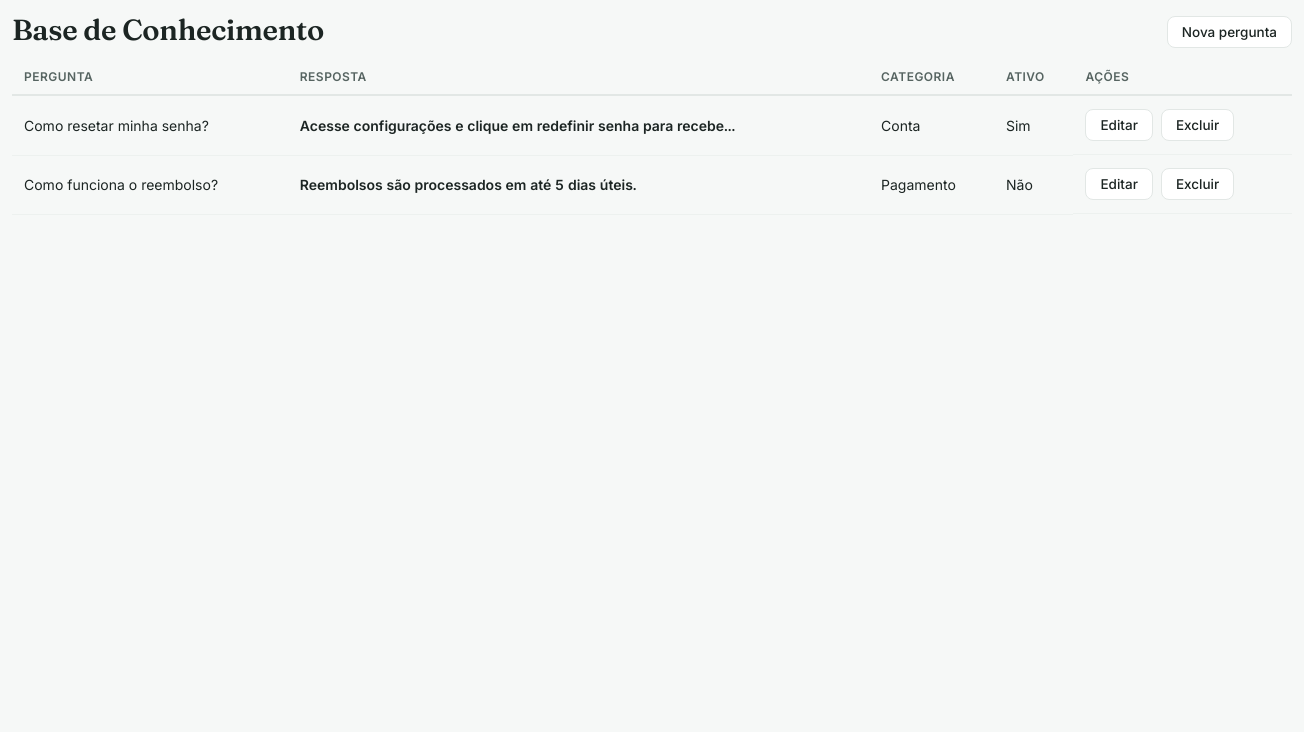
Test case: FaqAdminPage › sucesso ao salvar dispara invalidateQueries (refetch da lista), mostra toast de sucesso e fecha o form
Check: the text "Como resetar minha senha?" is shown, box [12,95,288,155]
Click the button "Nova pergunta". click: (1229, 32)
box: [1167,16,1292,48]
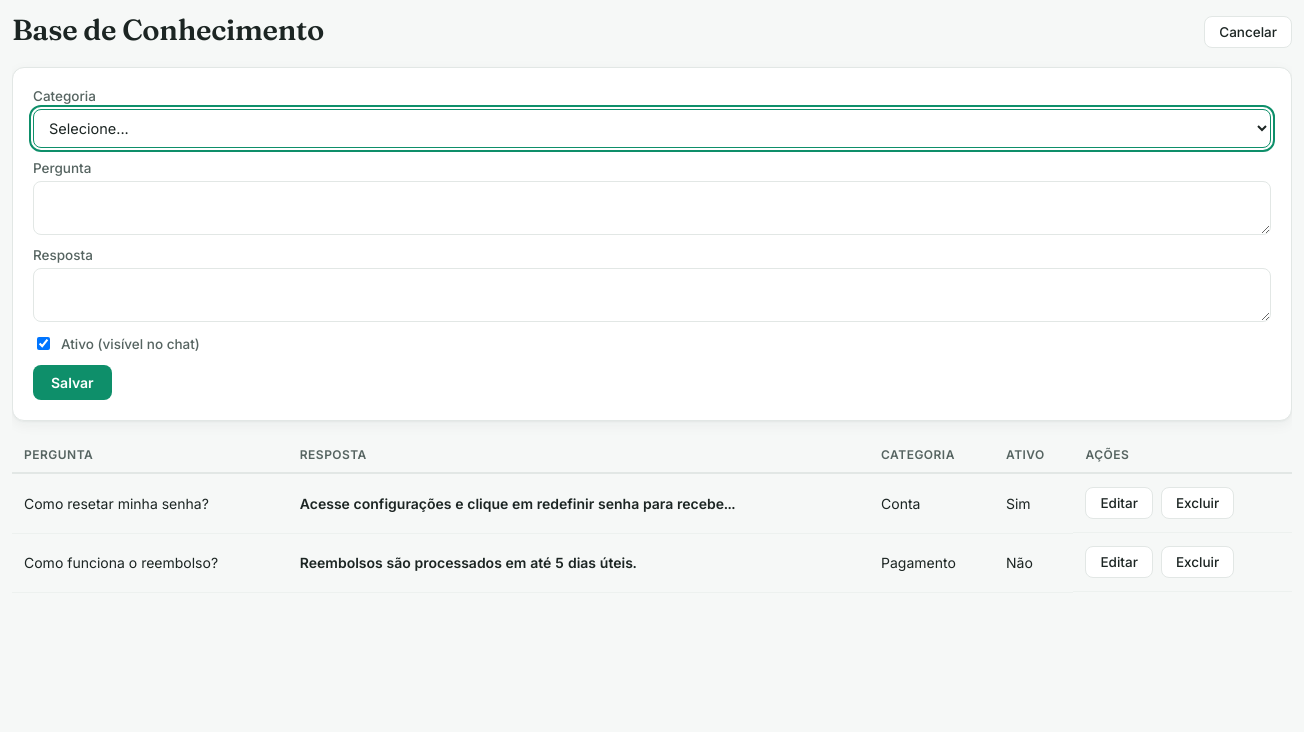
Select "Conta" in the dropdown labelled "Categoria". click: (652, 128)
box: [33,109,1271,148]
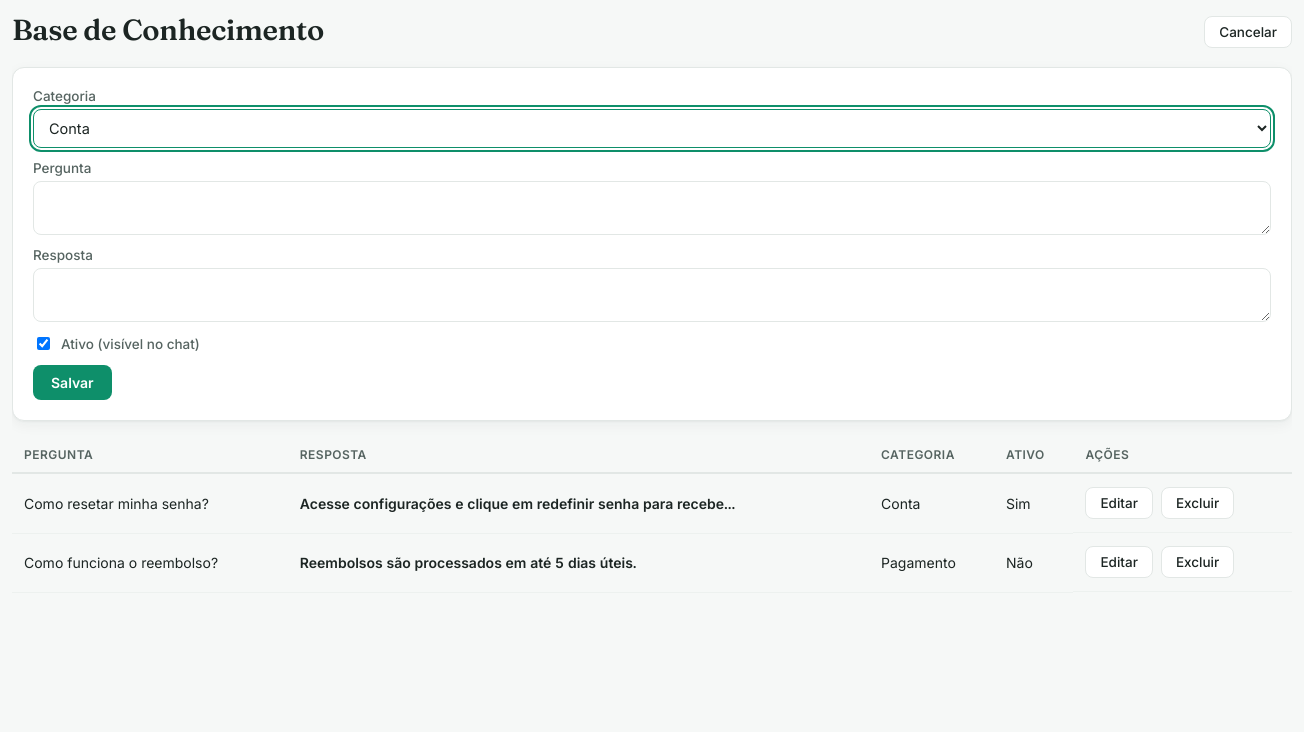
Type "Nova pergunta de teste?" into the text box labelled "Pergunta". click: (652, 208)
box: [33,181,1271,235]
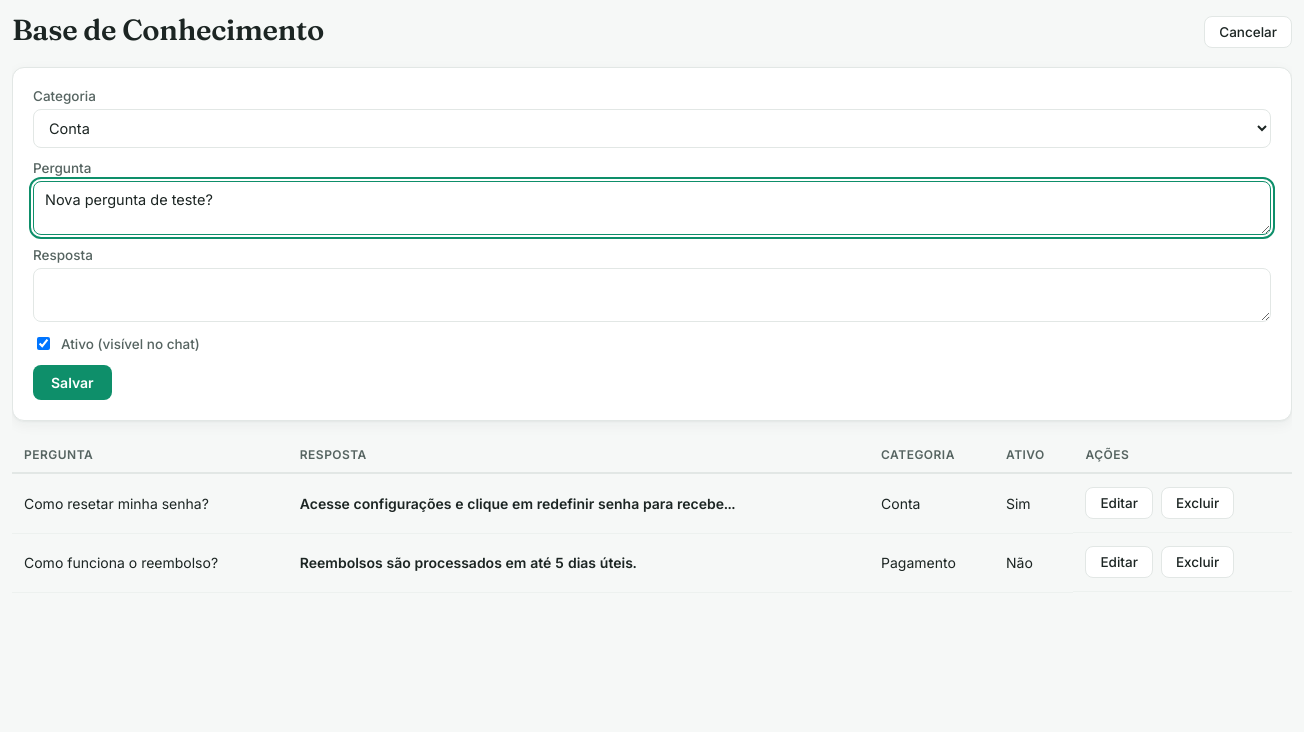
Type "Resposta de teste." into the text box labelled "Resposta". click: (652, 295)
box: [33,268,1271,322]
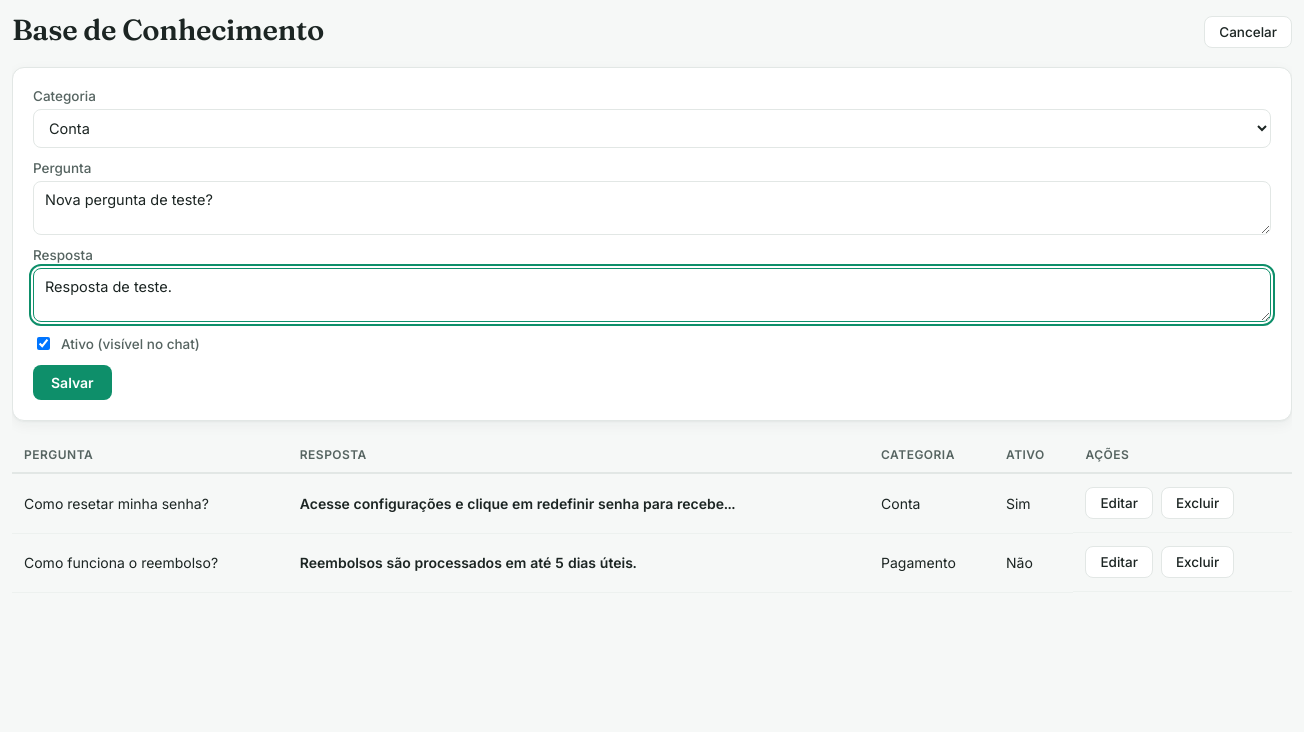
Click the button "Salvar". click: (72, 382)
box: [33,365,112,400]
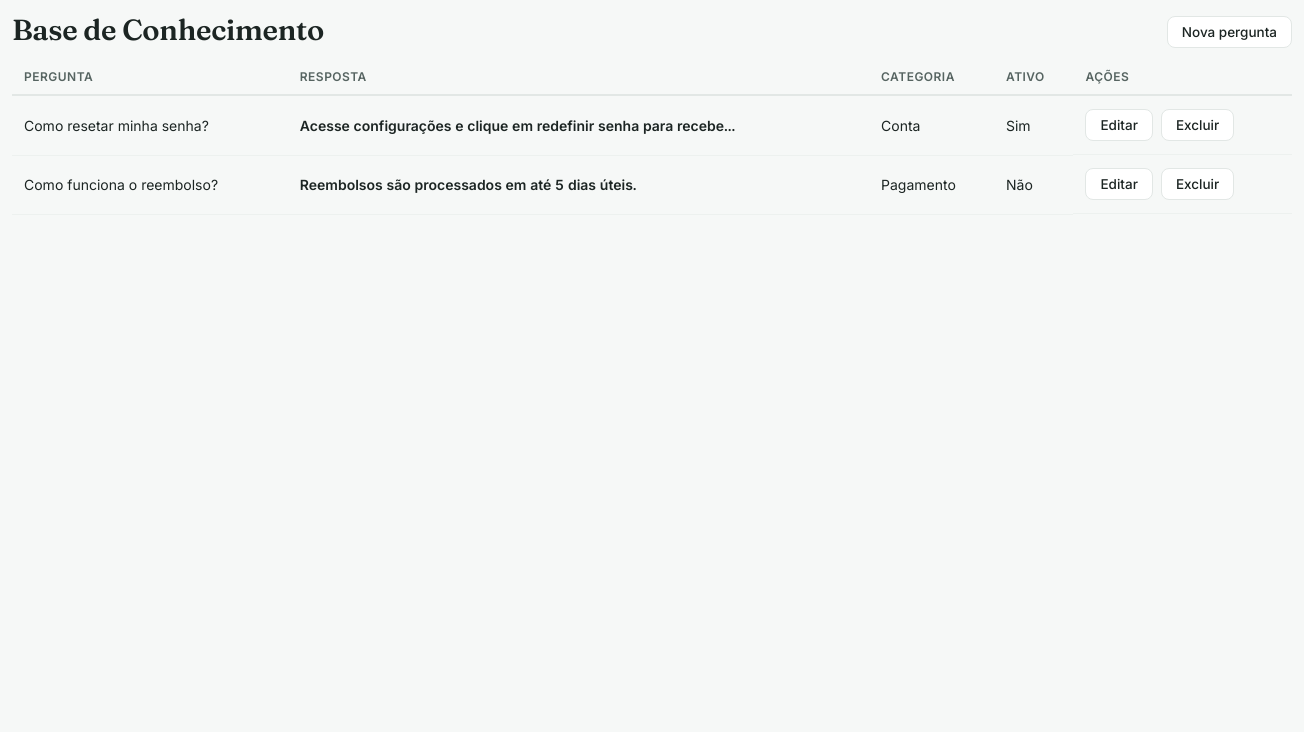
Check: the button "Nova pergunta" is shown, box [1167,16,1292,48]
Check: the button "Salvar" is gone
